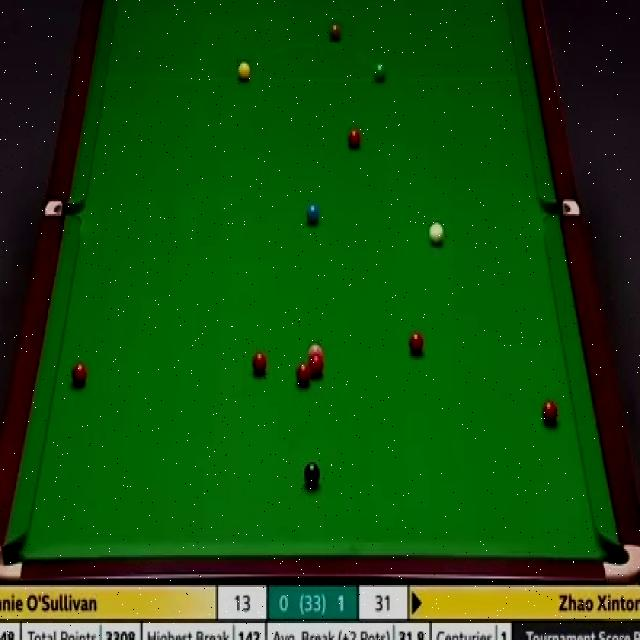black-ball: (303, 462, 321, 487)
blue-ball: (304, 203, 321, 226)
brown-ball: (327, 23, 342, 43)
green-ball: (372, 60, 386, 83)
pink-ball: (307, 344, 321, 364)
red-ball: (541, 398, 557, 426), (70, 364, 87, 387), (348, 127, 362, 152), (408, 332, 423, 355), (252, 354, 267, 376), (297, 363, 310, 388), (309, 359, 323, 382)
white-ball: (428, 218, 445, 249)
yellow-ball: (238, 62, 251, 83)
